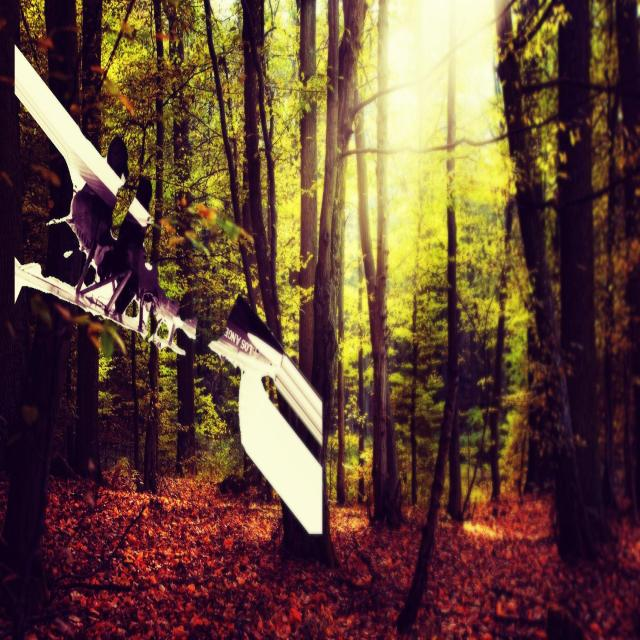airplane: (15, 47, 197, 357), (208, 294, 324, 536)
